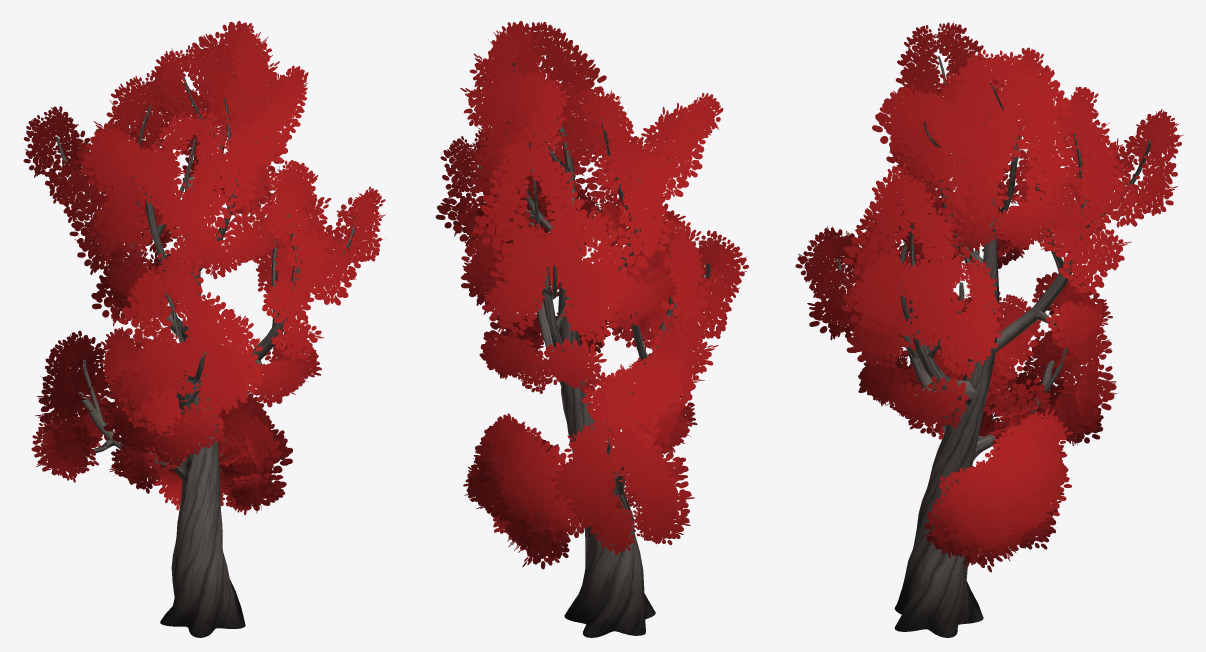
File: TwistedTree_4.glb
3 views of the same model, side by side, from view 1: azimuth 30°, elevation 25°; view 2: azimuth 150°, elevation 25°; view 3: azimuth 270°, elevation 25° (orthographic). The views are drawn at different scales.
Visible parts, largest first — view 1: TwistedTree_4; view 2: TwistedTree_4; view 3: TwistedTree_4.
Boxes of the visible parts, x1,y1,x2,y2 form: TwistedTree_4: (23, 21, 385, 637); TwistedTree_4: (435, 21, 748, 637); TwistedTree_4: (795, 22, 1183, 637).
Bounding box in the file's own units: 10.38 × 18.74 × 11.29.
Materials: 2 (2 with a texture image).
